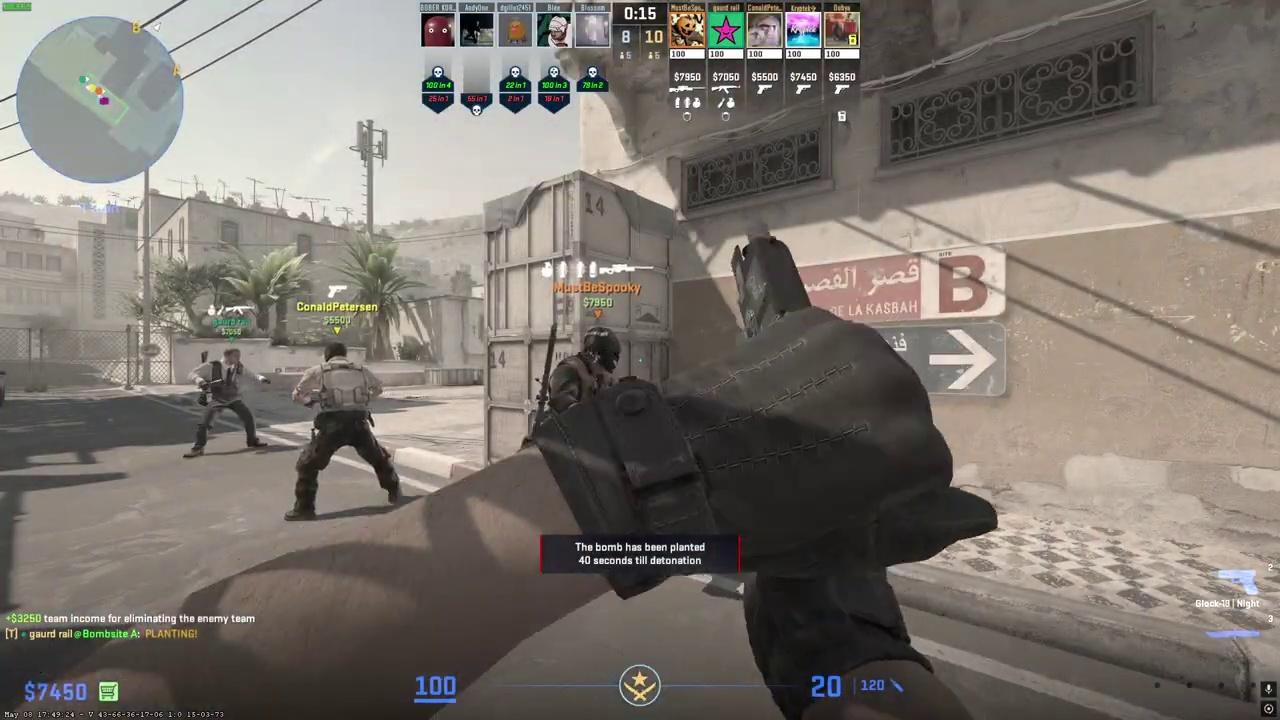Terrorist: (286, 342, 393, 521), (188, 348, 264, 457), (545, 326, 622, 419)
